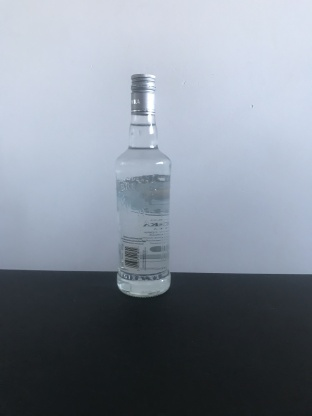nakretka: (129, 71, 157, 117)
